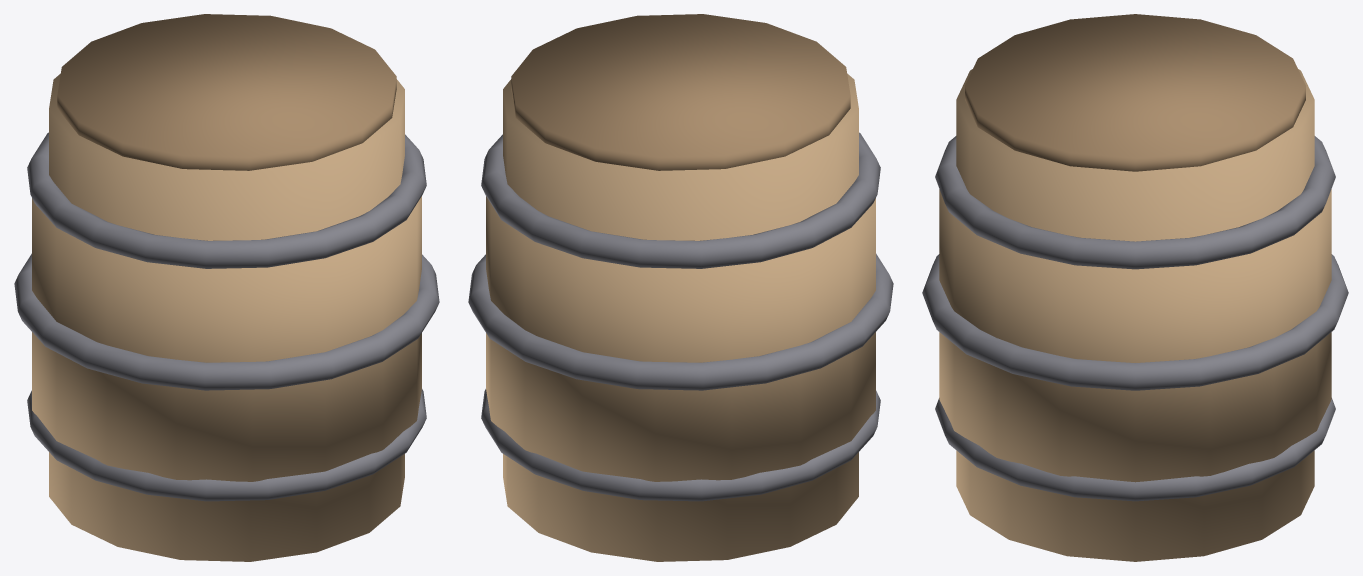
File: barrel.fbx
The picture shows the model from 3 angles, left to right: view 1: azimuth 30°, elevation 25°; view 2: azimuth 150°, elevation 25°; view 3: azimuth 270°, elevation 25°; orthographic projection.
Visible parts, largest first — view 1: Barrel; view 2: Barrel; view 3: Barrel.
Boxes of the visible parts, bbox=[...] form: Barrel: bbox=[14, 14, 439, 561]; Barrel: bbox=[468, 14, 893, 561]; Barrel: bbox=[922, 14, 1348, 561].
Size of the model in its own units: 1 by 1.03 by 1.
